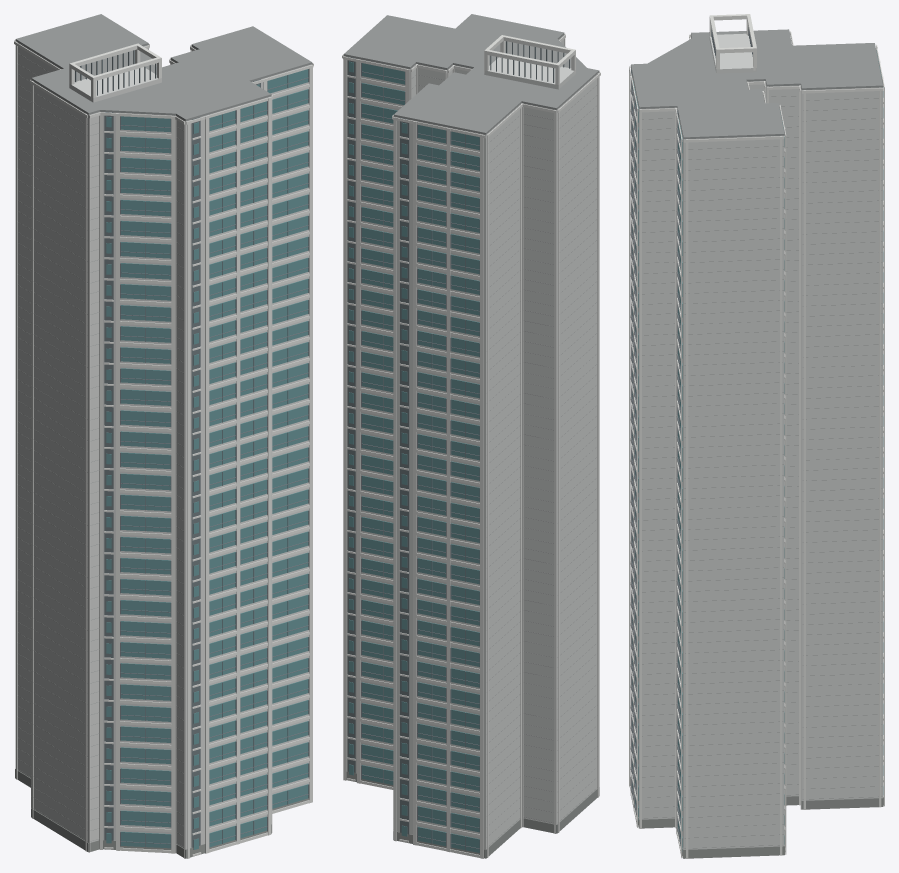
File: bespoke-banpo-riche-109.glb
3 views of the same model, side by side, from view 1: azimuth 30°, elevation 25°; view 2: azimuth 150°, elevation 25°; view 3: azimuth 270°, elevation 25° (orthographic). The views are drawn at different scales.
Parts seen in each view (by area): view 1: Riche109_editable_Riche109_light_grey_solid_wall, Riche109_editable_Riche109_teal_rectangular_grouped_windows, Riche109_editable_Riche109_broad_white_facade_frames, Riche109_editable_Riche109_modest_grey_flat_roof_caps, Riche109_editable_Riche109_dark_horizontal_spandrels_and_mul, Riche109_editable_Riche109_dark_recessed_service_strip, Riche109_editable_Riche109_muted_ground_wall; view 2: Riche109_editable_Riche109_light_grey_solid_wall, Riche109_editable_Riche109_teal_rectangular_grouped_windows, Riche109_editable_Riche109_broad_white_facade_frames, Riche109_editable_Riche109_modest_grey_flat_roof_caps, Riche109_editable_Riche109_dark_recessed_service_strip, Riche109_editable_Riche109_dark_horizontal_spandrels_and_mul, Riche109_editable_Riche109_muted_ground_wall; view 3: Riche109_editable_Riche109_light_grey_solid_wall, Riche109_editable_Riche109_broad_white_facade_frames, Riche109_editable_Riche109_modest_grey_flat_roof_caps, Riche109_editable_Riche109_dark_horizontal_spandrels_and_mul, Riche109_editable_Riche109_teal_rectangular_grouped_windows, Riche109_editable_Riche109_muted_ground_wall.
Part boxes in pixels (x1=…): Riche109_editable_Riche109_light_grey_solid_wall: x1=15, y1=41, x2=311, y2=849; Riche109_editable_Riche109_teal_rectangular_grouped_windows: x1=106, y1=69, x2=308, y2=849; Riche109_editable_Riche109_broad_white_facade_frames: x1=14, y1=40, x2=313, y2=858; Riche109_editable_Riche109_modest_grey_flat_roof_caps: x1=15, y1=14, x2=312, y2=846; Riche109_editable_Riche109_dark_horizontal_spandrels_and_mul: x1=120, y1=69, x2=309, y2=848; Riche109_editable_Riche109_dark_recessed_service_strip: x1=75, y1=50, x2=260, y2=847; Riche109_editable_Riche109_muted_ground_wall: x1=15, y1=769, x2=309, y2=858; Riche109_editable_Riche109_light_grey_solid_wall: x1=344, y1=35, x2=599, y2=849; Riche109_editable_Riche109_teal_rectangular_grouped_windows: x1=349, y1=61, x2=479, y2=852; Riche109_editable_Riche109_broad_white_facade_frames: x1=342, y1=33, x2=600, y2=858; Riche109_editable_Riche109_modest_grey_flat_roof_caps: x1=343, y1=14, x2=599, y2=845; Riche109_editable_Riche109_dark_recessed_service_strip: x1=347, y1=41, x2=569, y2=834; Riche109_editable_Riche109_dark_horizontal_spandrels_and_mul: x1=361, y1=63, x2=479, y2=852; Riche109_editable_Riche109_muted_ground_wall: x1=346, y1=771, x2=599, y2=858; Riche109_editable_Riche109_light_grey_solid_wall: x1=631, y1=33, x2=882, y2=849; Riche109_editable_Riche109_broad_white_facade_frames: x1=629, y1=14, x2=884, y2=858; Riche109_editable_Riche109_modest_grey_flat_roof_caps: x1=631, y1=29, x2=882, y2=848; Riche109_editable_Riche109_dark_horizontal_spandrels_and_mul: x1=631, y1=64, x2=879, y2=843; Riche109_editable_Riche109_teal_rectangular_grouped_windows: x1=632, y1=50, x2=883, y2=851; Riche109_editable_Riche109_muted_ground_wall: x1=630, y1=777, x2=883, y2=858.
Size of the model in its own units: 31.77 by 101 by 31.36.
